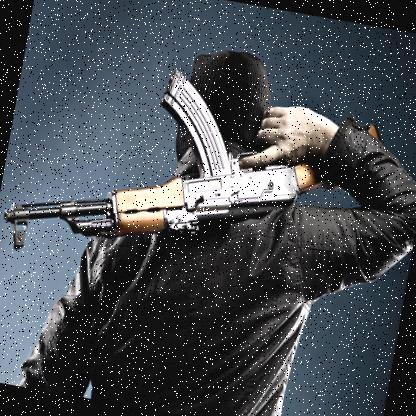rifle: (0, 37, 386, 314)
